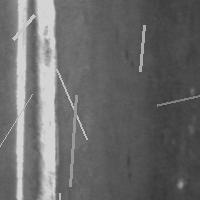scratches: (33, 1, 60, 199), (52, 64, 92, 144), (14, 1, 28, 199), (0, 89, 37, 152), (65, 90, 81, 191), (152, 84, 200, 110), (8, 10, 39, 44), (135, 20, 149, 76), (123, 152, 135, 180), (50, 188, 64, 200)
